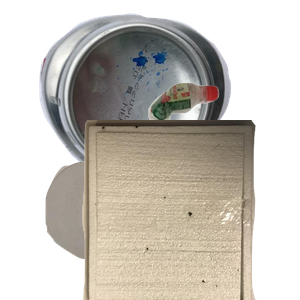glass: (43, 159, 187, 300)
metal: (37, 11, 261, 180)
plastic: (146, 80, 300, 198)
trash: (80, 120, 300, 300)
